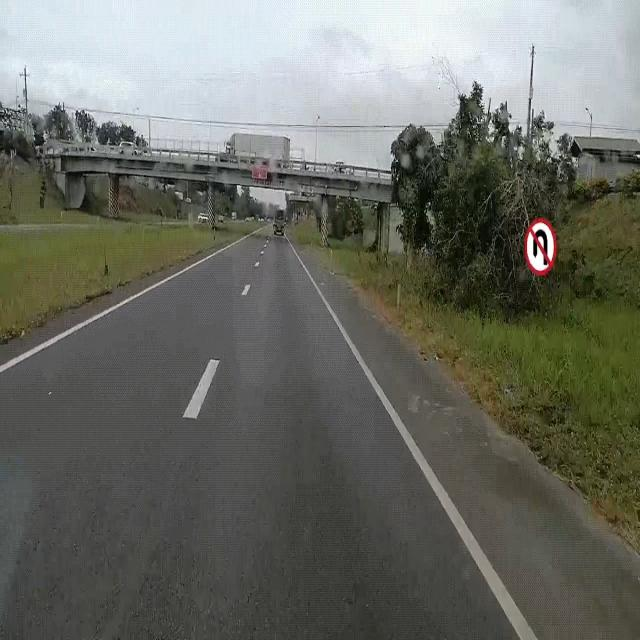Demi-Tour-Interdit: (520, 209, 562, 283)
